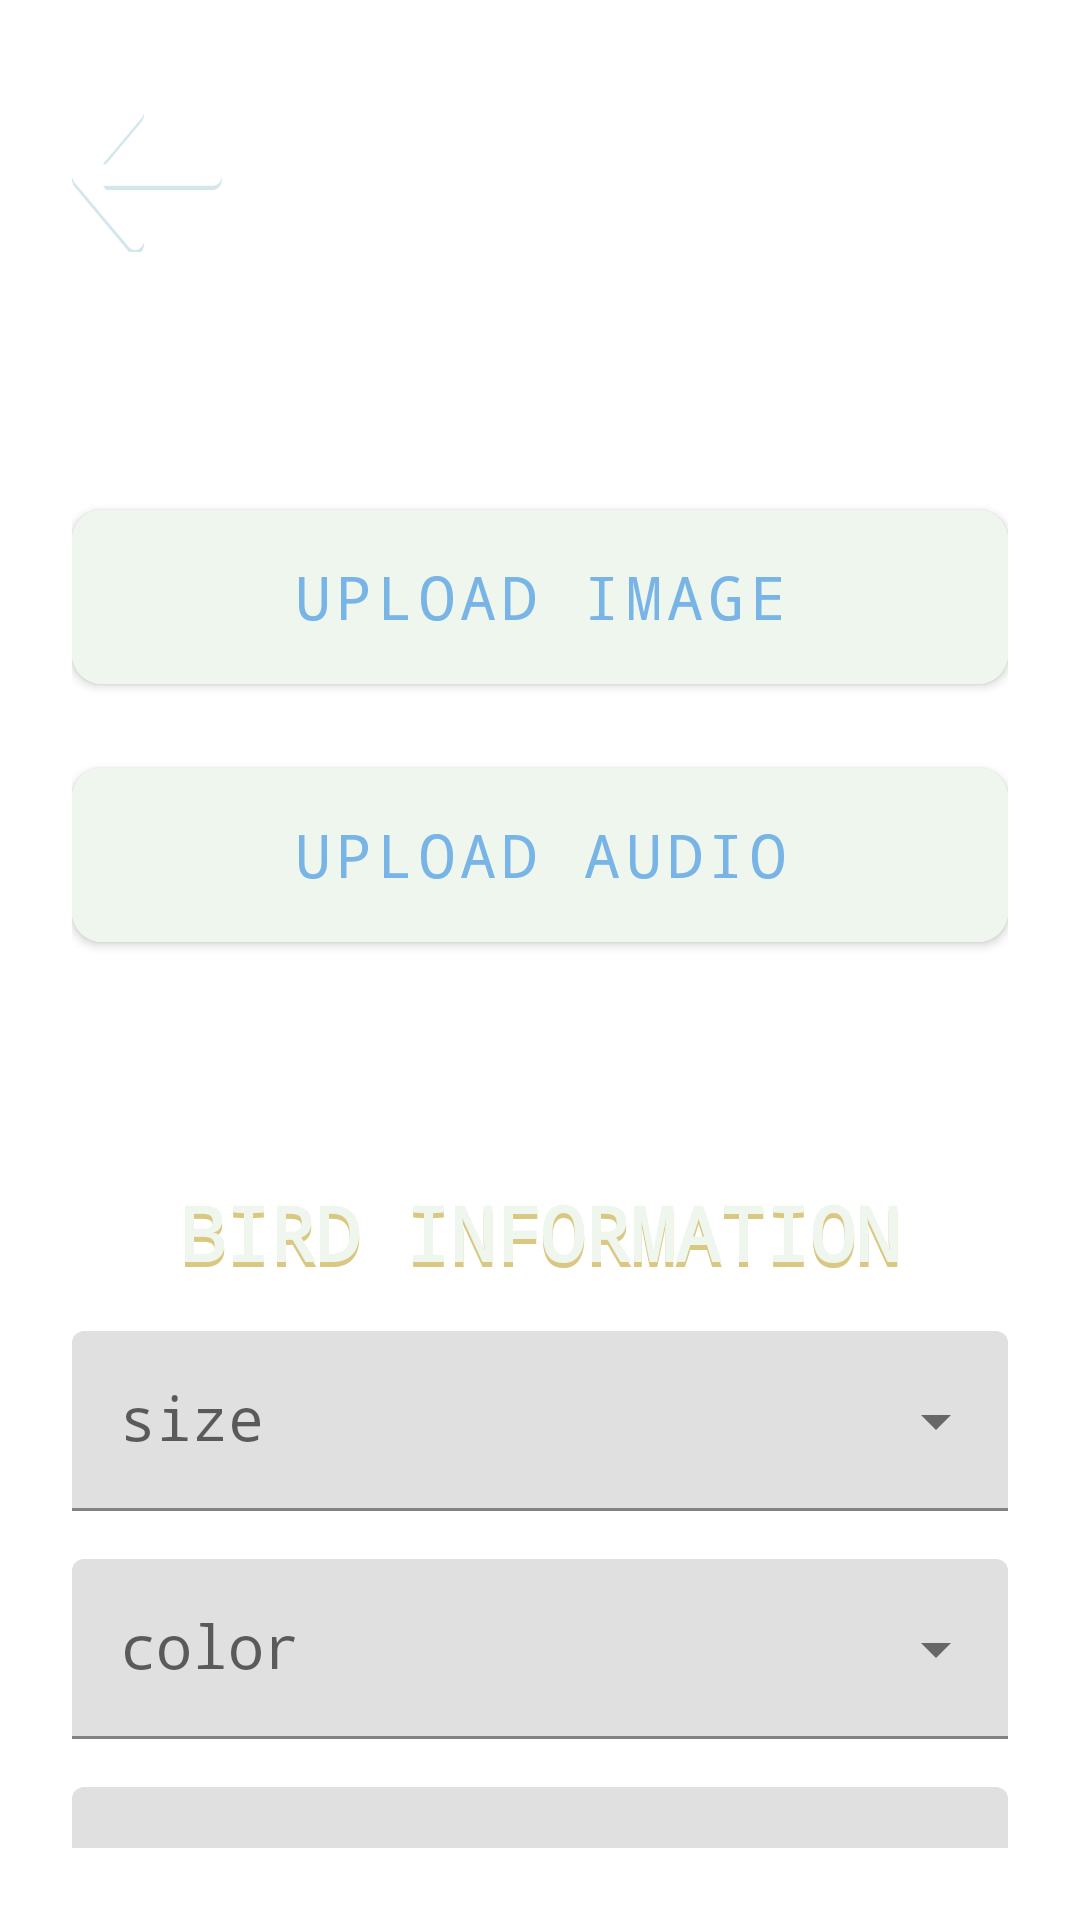

Where to tap for icons on this 1080px×1920px app screen, as [x,y]:
back: [147,183]
